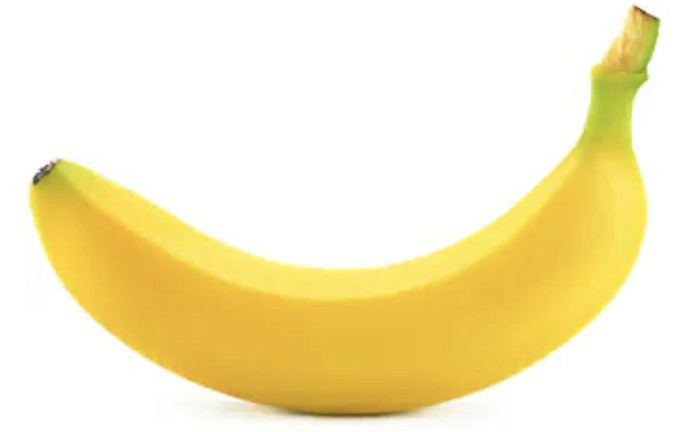fresh_banana: (31, 36, 647, 411)
